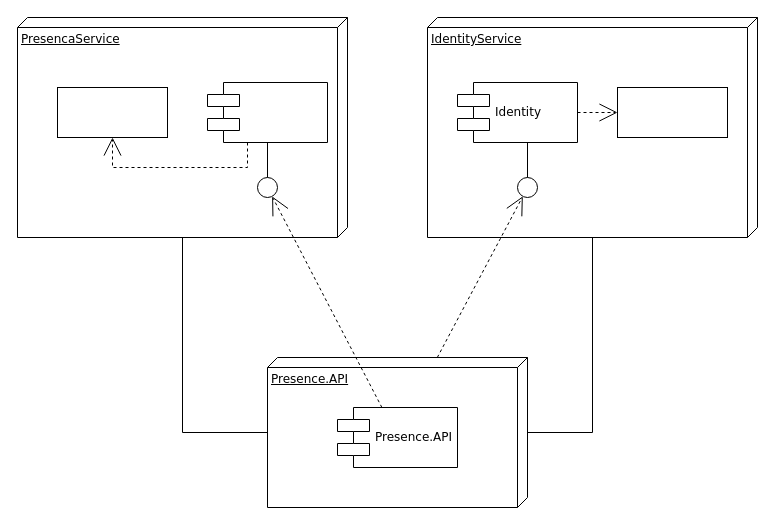
The diagram is 775 pixels wide and 525 high, and some of its shapes have lost their labels. Each missing label, with the box of its shape:
Presenca: (206, 82, 328, 142)
«interface» IIdentityService: (616, 86, 728, 138)
«interface» IPresencaService: (56, 86, 168, 138)
